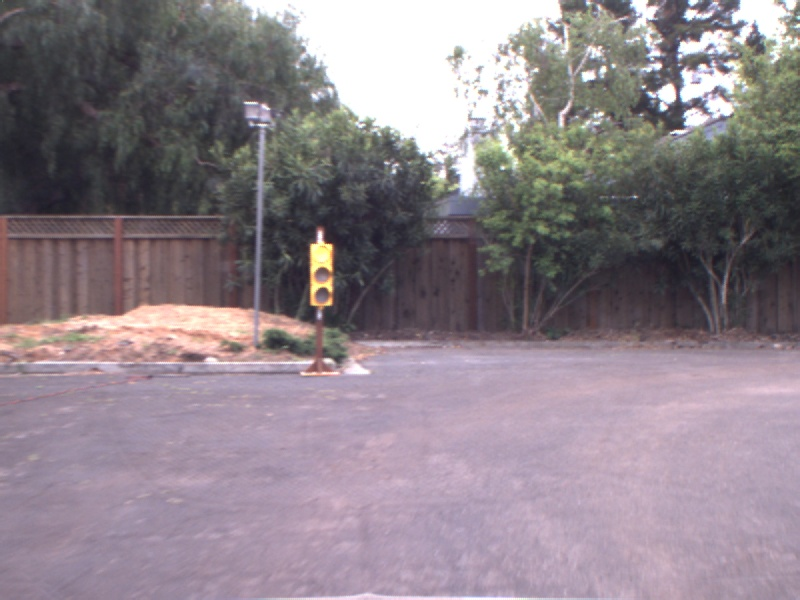red: (305, 231, 335, 309)
